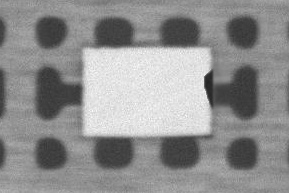DIE_BROKEN: (200, 67, 215, 109)
